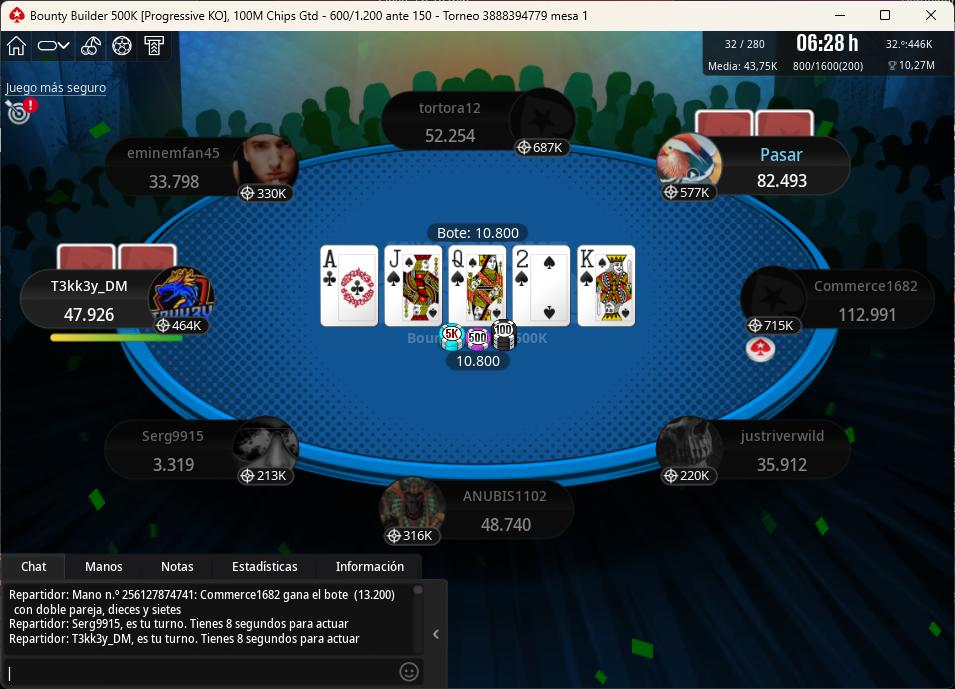HiddenCards: (693, 113, 818, 143), (55, 246, 181, 273)
Player: (17, 268, 220, 338), (379, 478, 580, 548), (107, 419, 310, 487), (651, 419, 849, 487), (654, 133, 851, 201), (742, 267, 941, 334), (108, 133, 303, 201), (383, 93, 577, 158)
PlayerChips: (750, 450, 814, 479), (833, 305, 905, 325), (140, 174, 206, 193), (421, 125, 485, 144), (474, 516, 538, 535), (751, 173, 815, 192), (147, 455, 199, 474)
Pot: (426, 222, 531, 243)
PrincipalPlayer: (374, 476, 574, 545)
PrincipalPlayerChips: (472, 518, 545, 538)
ShowedCards: (312, 242, 642, 334)
ShowedCards1: (319, 245, 384, 332)
ShowedCards2: (383, 246, 447, 330)
ShowedCards3: (445, 244, 511, 329)
ShowedCards4: (510, 246, 572, 329)
ShowedCards5: (577, 243, 638, 330)
SmallBigBlind: (320, 3, 442, 31)
TablePot: (434, 321, 529, 377)
